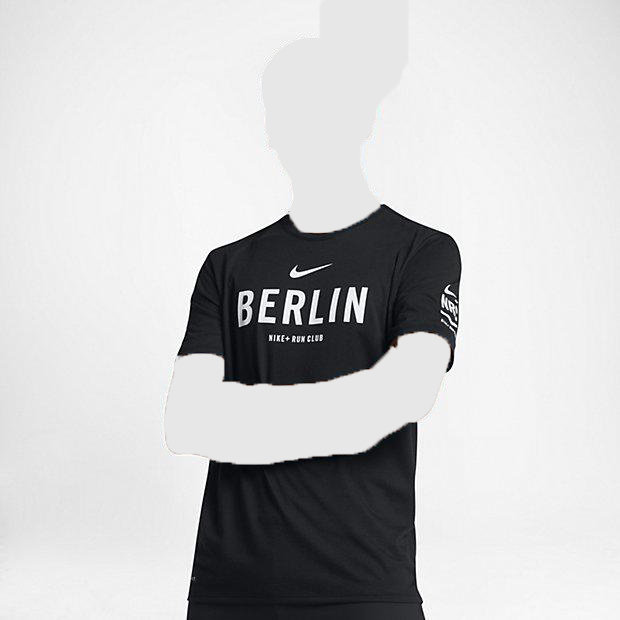teeshirt: (171, 202, 467, 614)
